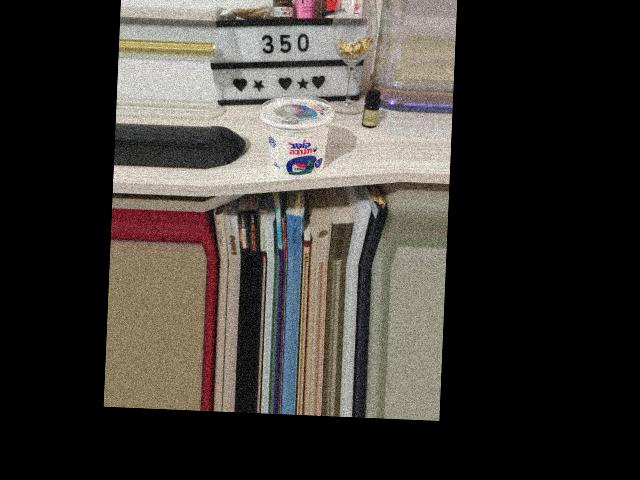cotage: (262, 91, 330, 181)
